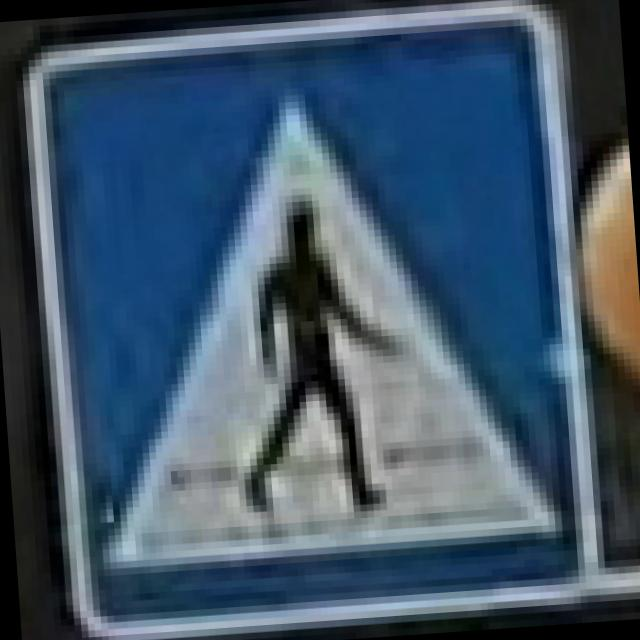zebracrossing_sign: (12, 0, 607, 640)
